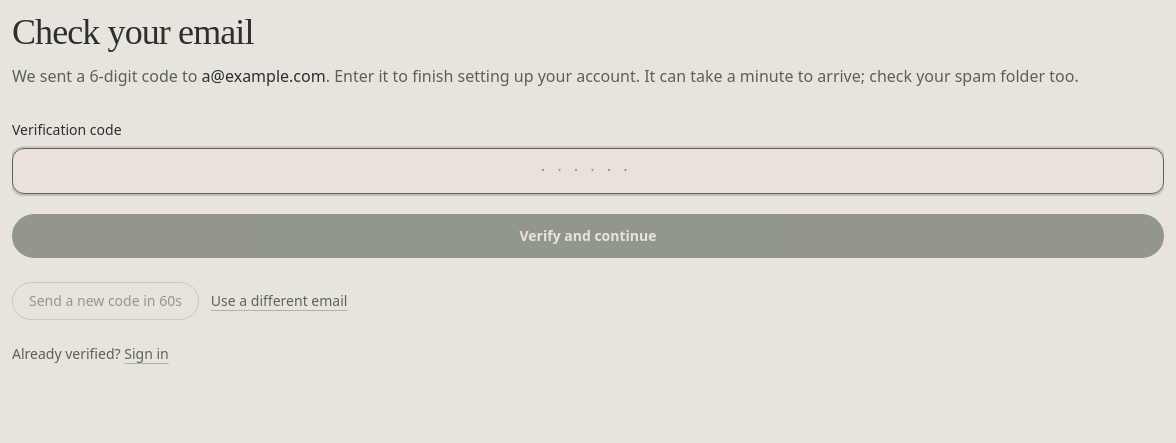
VerifyEmailForm › explains a TOO_MANY_ATTEMPTS failure and stays on the form
The width and height of the screenshot is (1176, 443).
Type "000000" into the field labelled "Verification code" at [588, 171], box [12,148,1164,194]
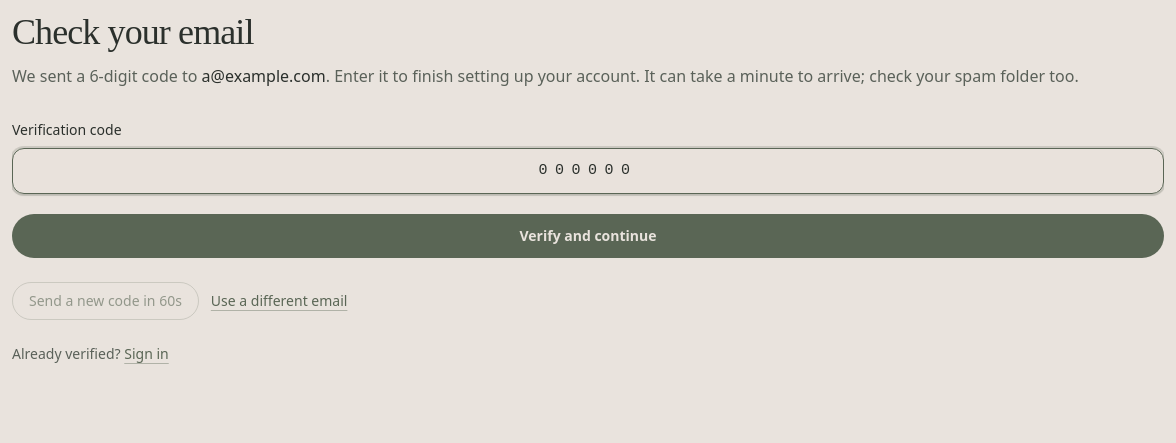
Click the button "Verify and continue" at [588, 236], box [12,214,1164,258]
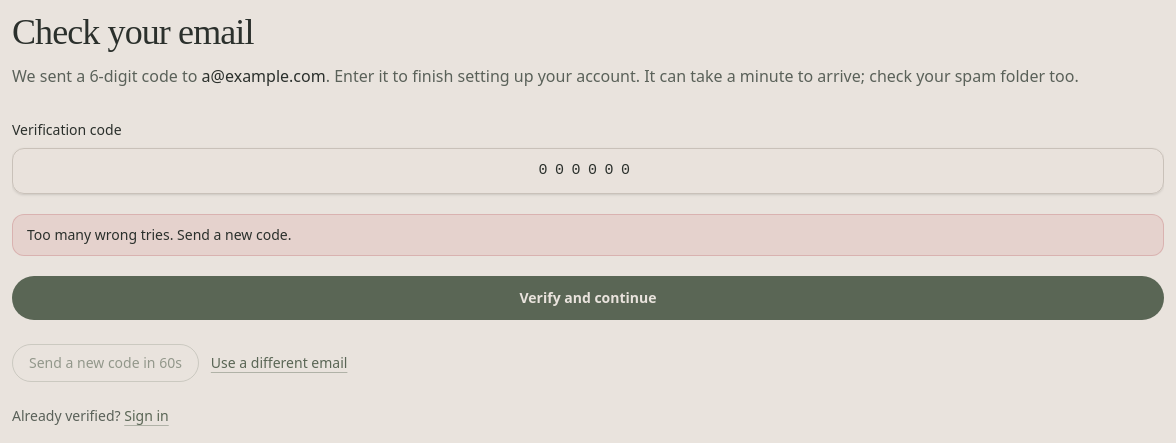
expect the message shows "Too many wrong tries": met, box [27,225,291,244]
